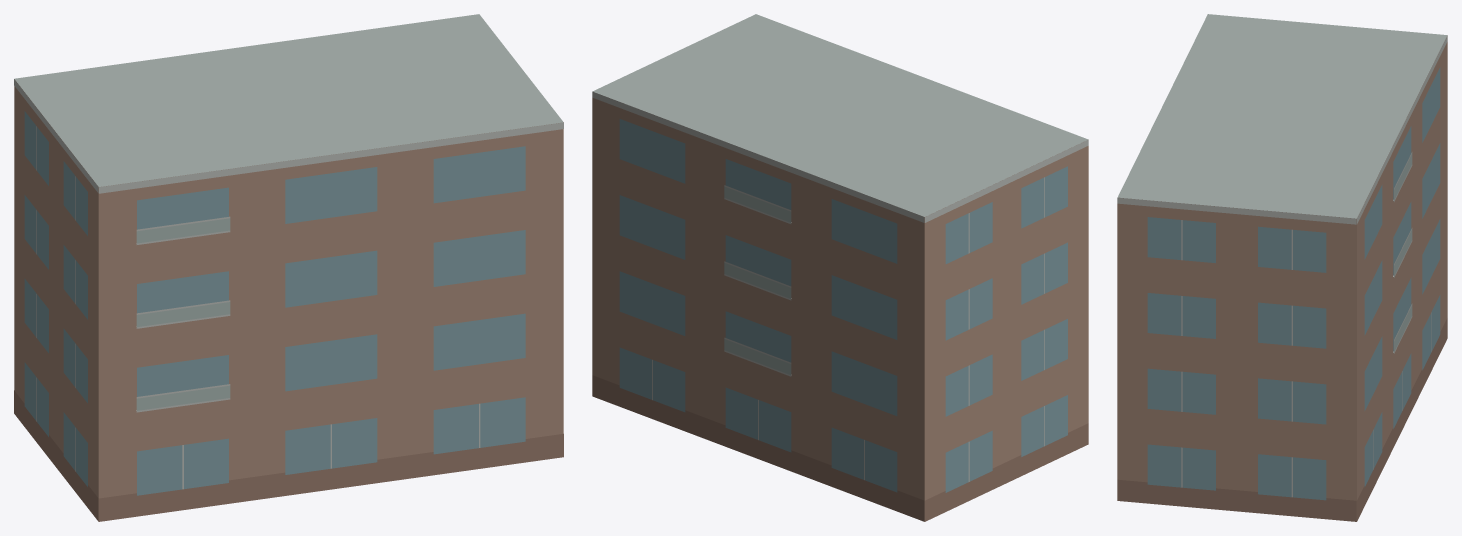
Rendered from residential-556f5228-e5d4-4846-bb9d-d2cc541ae051.glb.
The picture shows the model from 3 angles, left to right: view 1: azimuth 30°, elevation 25°; view 2: azimuth 150°, elevation 25°; view 3: azimuth 270°, elevation 25°; orthographic projection. The views are drawn at different scales.
Visible parts, largest first — view 1: residential-556f5228-e5d4-4846-bb9d-d2cc541ae051.tmp; view 2: residential-556f5228-e5d4-4846-bb9d-d2cc541ae051.tmp; view 3: residential-556f5228-e5d4-4846-bb9d-d2cc541ae051.tmp.
Part boxes in pixels (x1,y1,x2,y2): residential-556f5228-e5d4-4846-bb9d-d2cc541ae051.tmp: [14, 14, 563, 521]; residential-556f5228-e5d4-4846-bb9d-d2cc541ae051.tmp: [592, 14, 1088, 521]; residential-556f5228-e5d4-4846-bb9d-d2cc541ae051.tmp: [1117, 14, 1447, 521].
Size of the model in its own units: 17.66 by 12.2 by 12.05.
